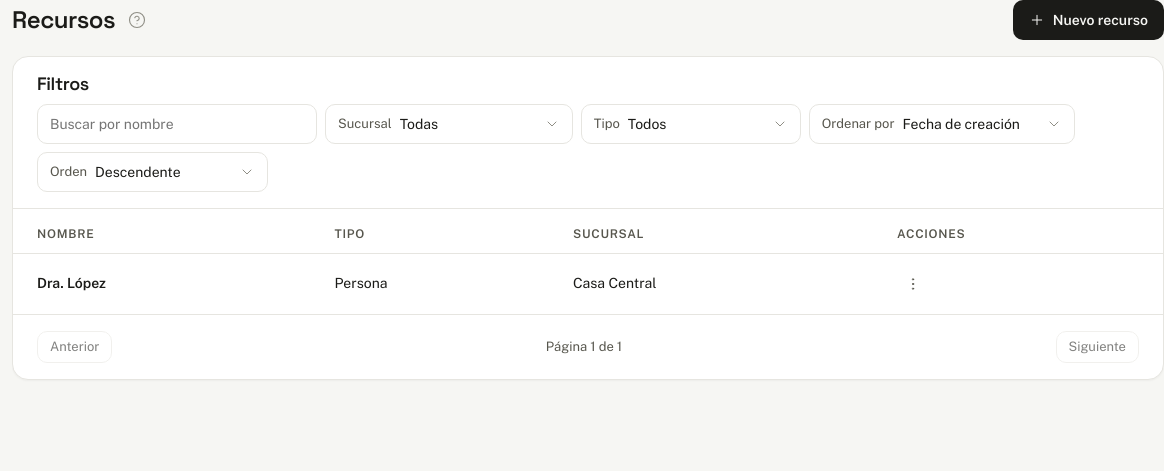
Test case: ResourceListPage › Eliminar pregunta antes; el RESTRICT del backend se muestra tal cual
Step 1. Click the button named "Más acciones" → (913, 284), box [897,268,929,300]
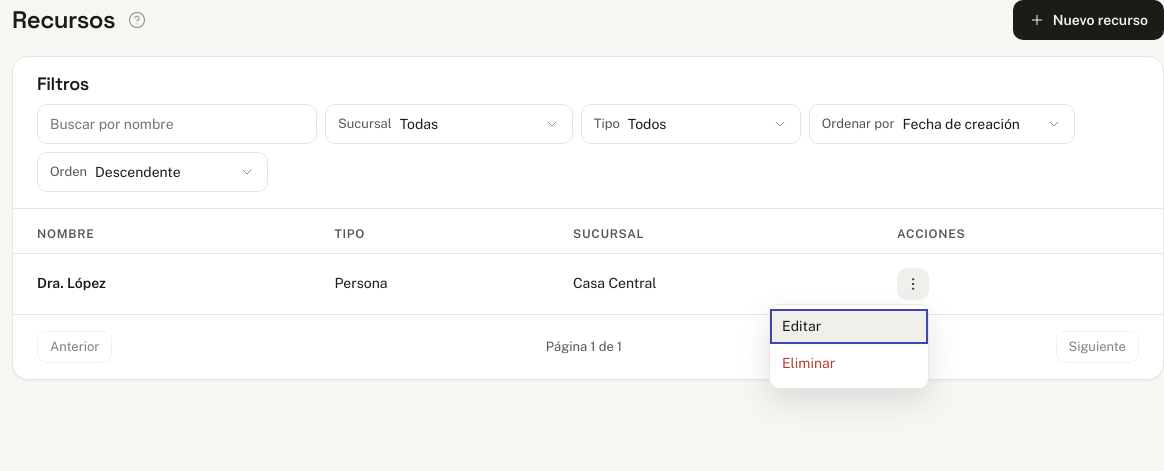
Step 2. Click the menu item "Eliminar" → (849, 364), box [770,344,928,384]
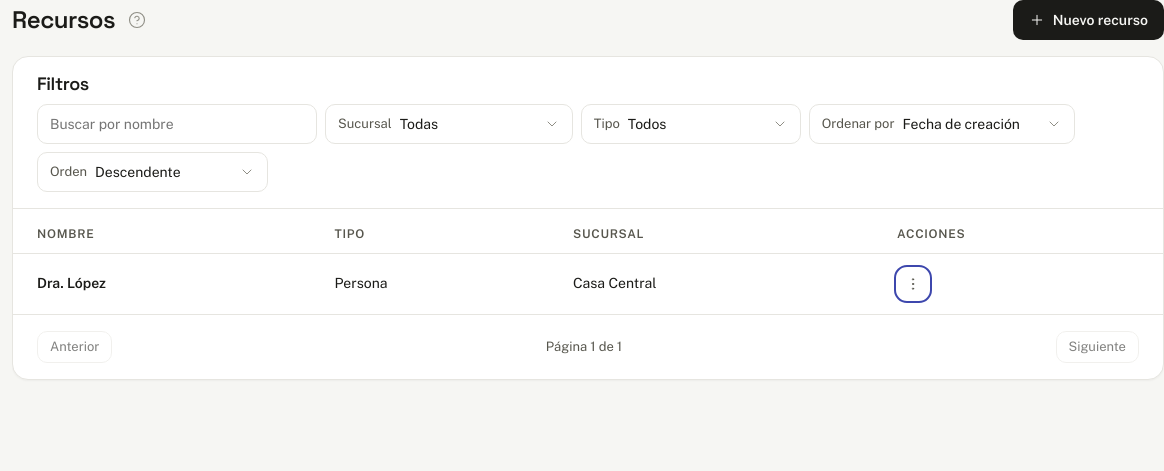
Step 3. Click the button named "Más acciones" → (913, 284), box [897,268,929,300]
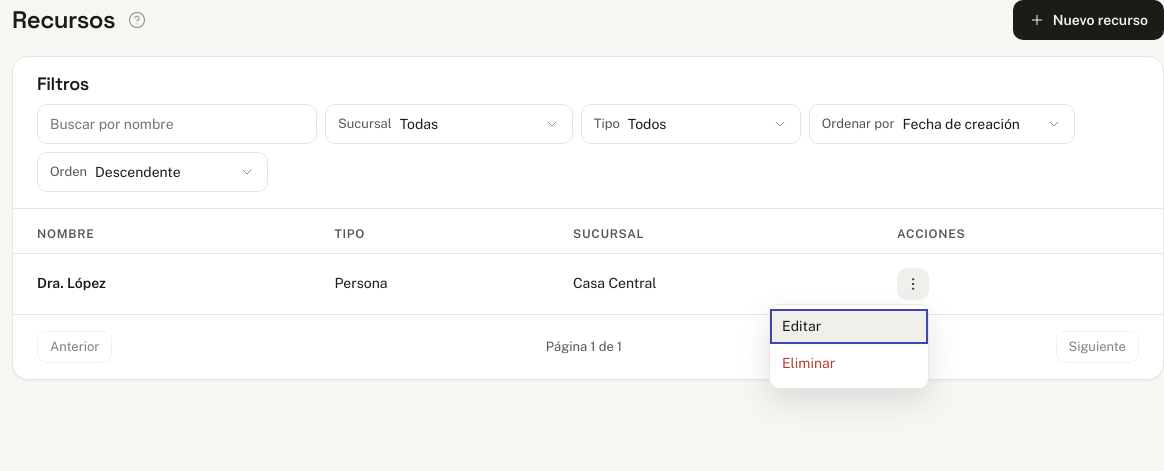
Step 4. Click the menu item "Eliminar" → (849, 364), box [770,344,928,384]
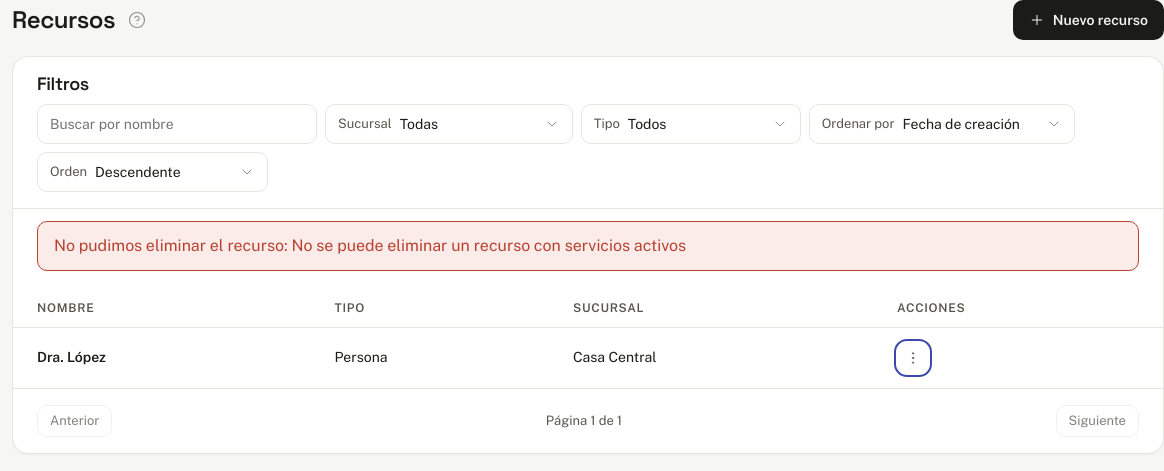
Check: the message shows "No pudimos eliminar el recurso: No se puede eliminar un recurso con servicios activos", box [37,220,1139,270]
